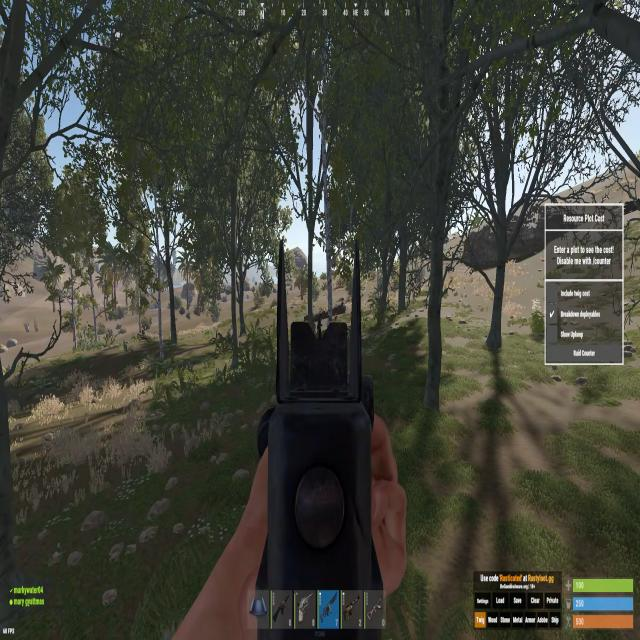Player: (317, 312, 323, 328)
